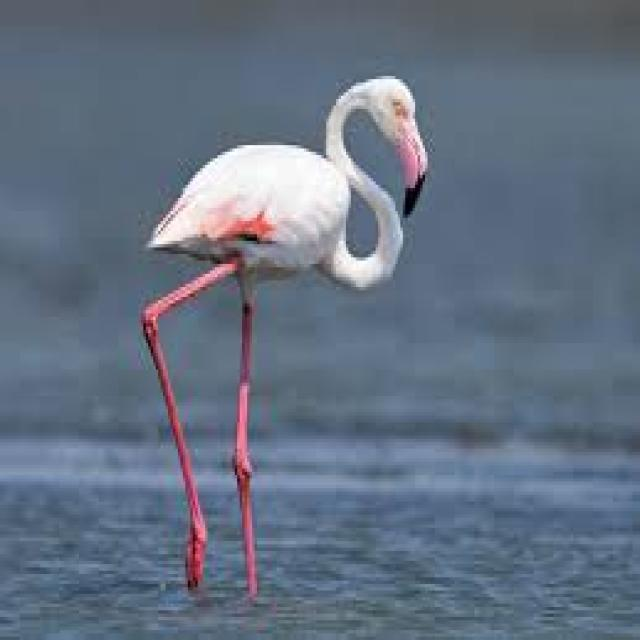Flamingo: (138, 73, 432, 598)
